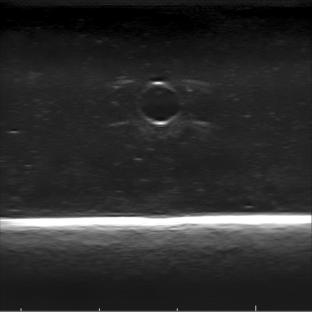vessel: (135, 81, 184, 127)
